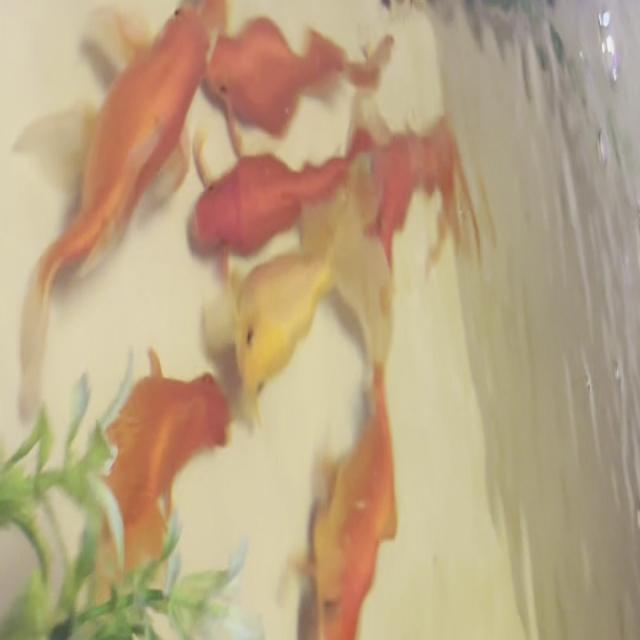fish: (1, 0, 207, 412), (299, 249, 402, 640), (94, 349, 232, 576), (348, 111, 491, 285), (194, 11, 376, 143), (190, 136, 372, 262), (220, 237, 342, 409)
